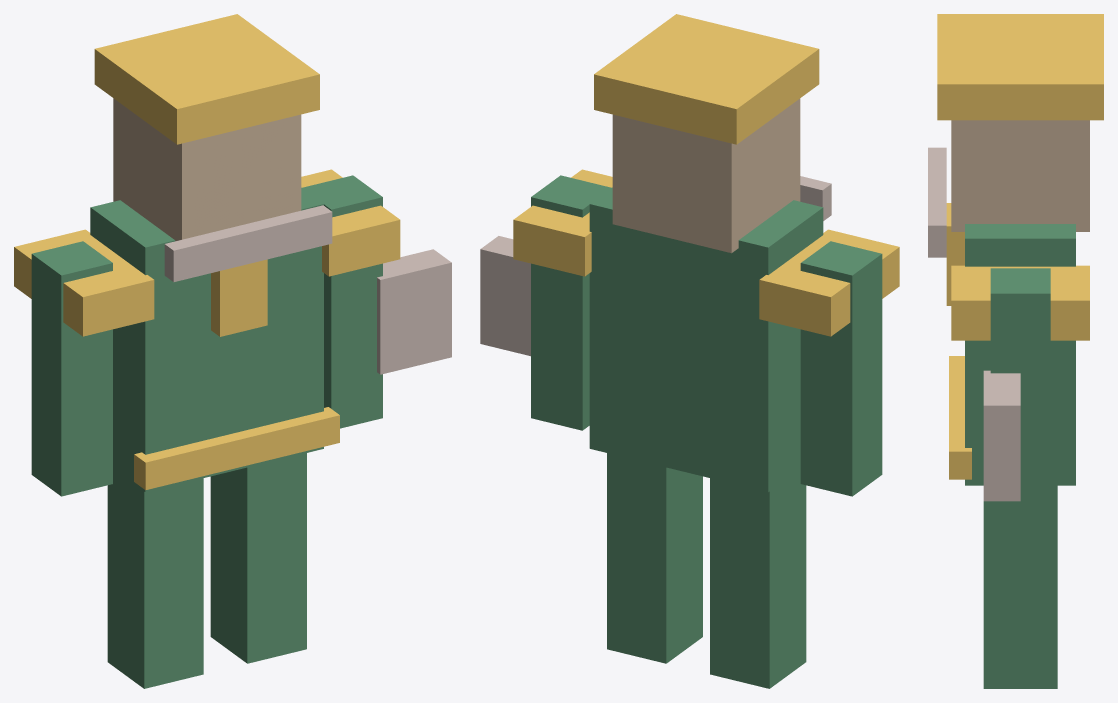
The model's file is 20_selka_riftwalker_operator_at.glb.
3 renders of one model, left to right at view 1: azimuth 30°, elevation 25°; view 2: azimuth 150°, elevation 25°; view 3: azimuth 270°, elevation 25°, orthographic.
Parts seen in each view (by area): view 1: Selka Riftwalker, Operator at; view 2: Selka Riftwalker, Operator at; view 3: Selka Riftwalker, Operator at.
Boxes of the visible parts, box(x1,y1,x2,y2) form: Selka Riftwalker, Operator at: box(14, 14, 451, 688); Selka Riftwalker, Operator at: box(480, 14, 899, 688); Selka Riftwalker, Operator at: box(928, 14, 1103, 688).
Size of the model in its own units: 1 by 1.47 by 0.3906.
